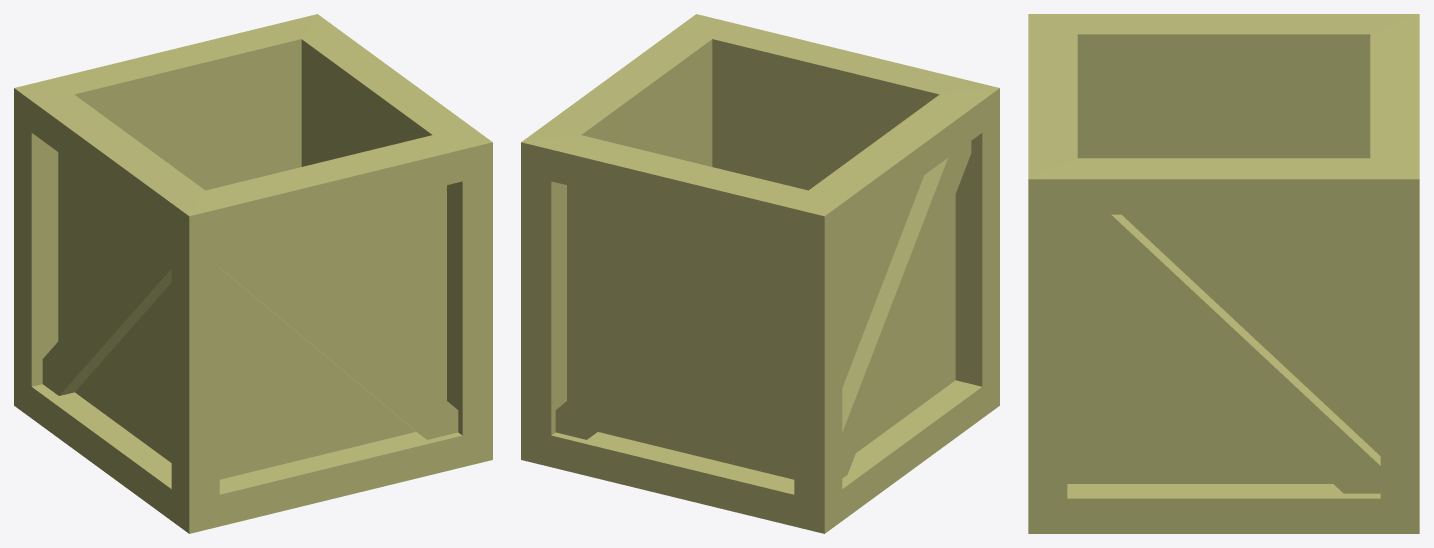
Rendered from Drawer-open.fbx.
3 renders of one model, left to right at view 1: azimuth 30°, elevation 25°; view 2: azimuth 150°, elevation 25°; view 3: azimuth 270°, elevation 25°, orthographic. The views are drawn at different scales.
Parts seen in each view (by area): view 1: pCube7; view 2: pCube7; view 3: pCube7.
Part boxes in pixels (x1,y1,x2,y2): pCube7: (14, 14, 492, 533); pCube7: (521, 14, 999, 533); pCube7: (1028, 14, 1419, 533).
Size of the model in its own units: 80.7 by 80.8 by 80.7.
